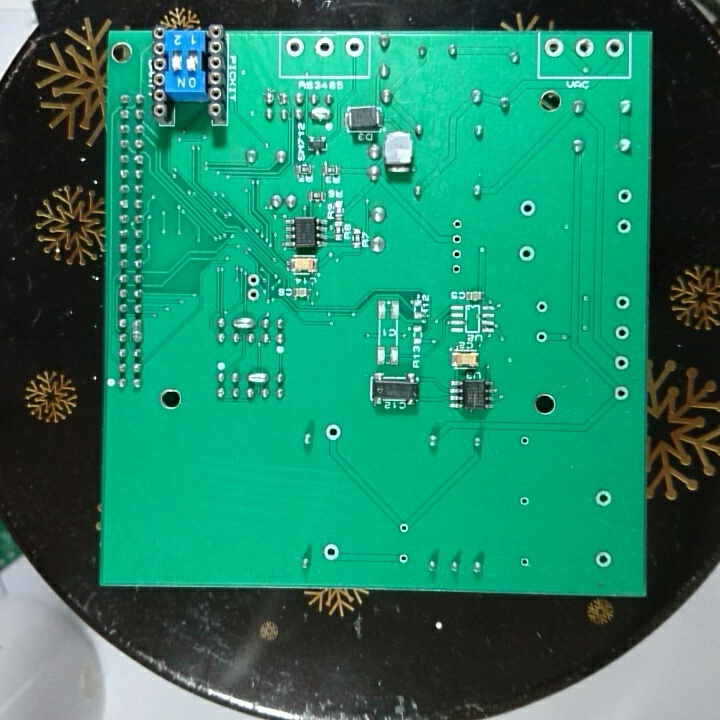F: (602, 36, 626, 59), (573, 37, 595, 59), (312, 37, 335, 58), (544, 36, 565, 58), (343, 37, 365, 58), (594, 549, 614, 571), (284, 36, 304, 57), (324, 423, 344, 443), (615, 216, 634, 237), (615, 186, 634, 207), (518, 198, 537, 219), (517, 243, 536, 264), (322, 541, 340, 563), (594, 488, 613, 508), (612, 352, 631, 372), (532, 329, 551, 347), (613, 384, 630, 403), (614, 294, 631, 312), (614, 325, 631, 342), (245, 272, 262, 288), (244, 286, 260, 303), (534, 298, 549, 316), (449, 246, 464, 261), (450, 232, 465, 246), (449, 261, 462, 277), (518, 555, 532, 569), (450, 217, 465, 230), (397, 521, 410, 535), (397, 552, 411, 565), (518, 494, 530, 509), (519, 434, 531, 448)
P: (308, 106, 335, 123), (130, 316, 147, 342), (230, 315, 259, 330), (245, 369, 271, 385)
